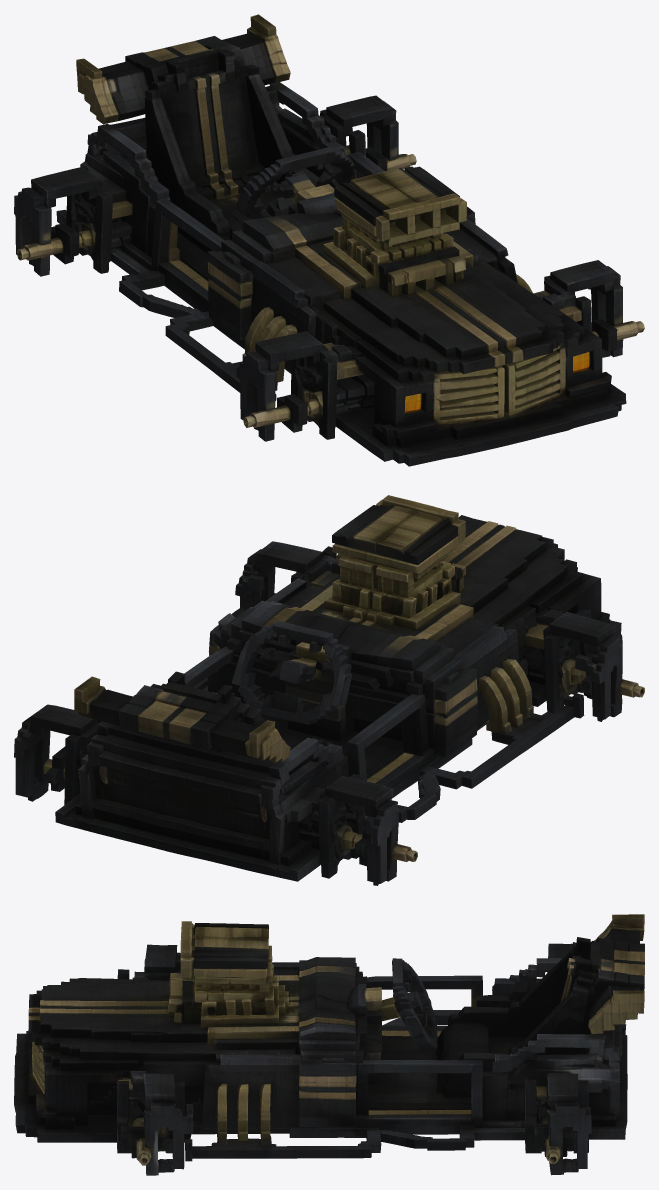
Rendered from black-muscle.glb.
3 views of the same model, one above another, from view 1: azimuth 30°, elevation 25°; view 2: azimuth 150°, elevation 25°; view 3: azimuth 270°, elevation 25° (orthographic). The views are drawn at different scales.
Visible parts, largest first — view 1: model; view 2: model; view 3: model.
Part boxes in pixels (x1,y1,x2,y2): model: (14, 14, 644, 466); model: (14, 495, 644, 885); model: (14, 914, 644, 1175).
Size of the model in its own units: 1.24 by 0.5347 by 1.9.
1 material, 1 textured.
